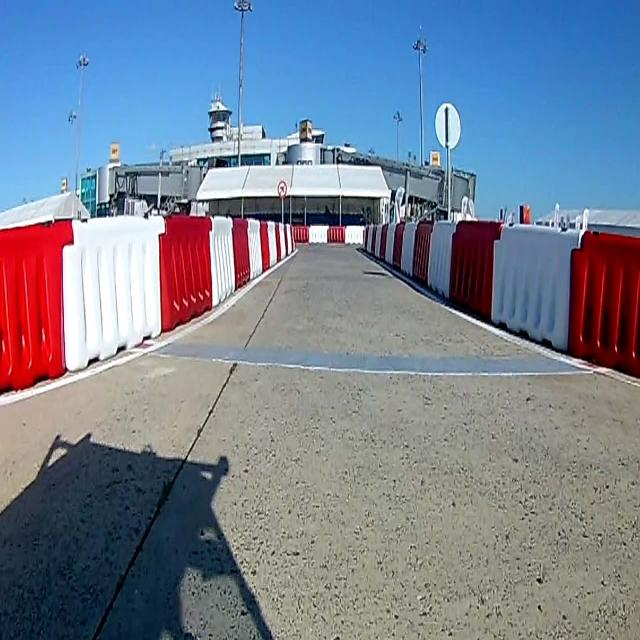soladonulmez: (277, 180, 286, 198)
